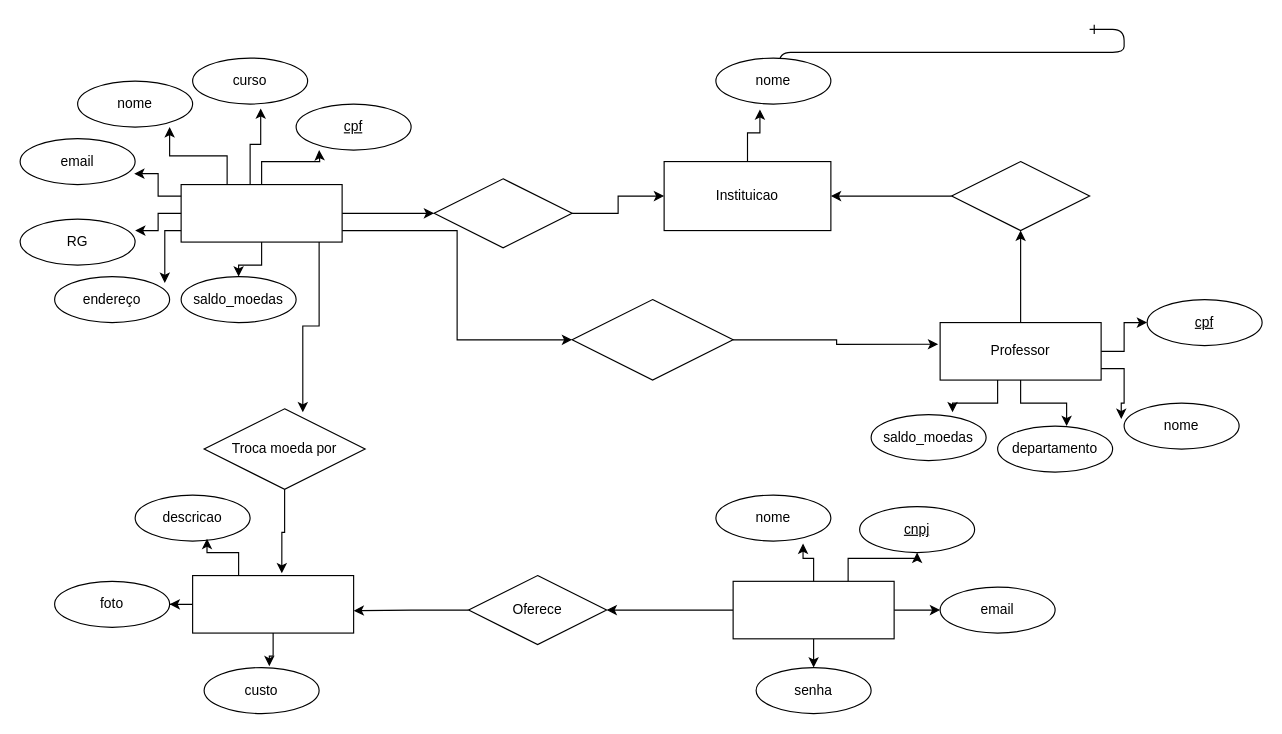
This 1282x734 diagram has some shape labels left out. Each missing label, with the centre of its shape:
"Aluno" belongs at (x=261, y=212).
"Empresa parceira" belongs at (x=813, y=609).
"Ensina em" belongs at (x=1020, y=195).
"Estuda em" belongs at (x=502, y=213).
"Recebe moeda de" belongs at (x=652, y=339).
"Vantagem" belongs at (x=272, y=603).
